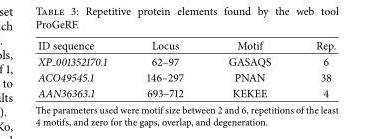table: (37, 37, 335, 100)
table column: (37, 37, 126, 100), (205, 37, 292, 100), (126, 37, 205, 100), (292, 37, 335, 100)
table row: (37, 52, 335, 68), (37, 68, 335, 84), (37, 84, 335, 100), (37, 37, 335, 52)
